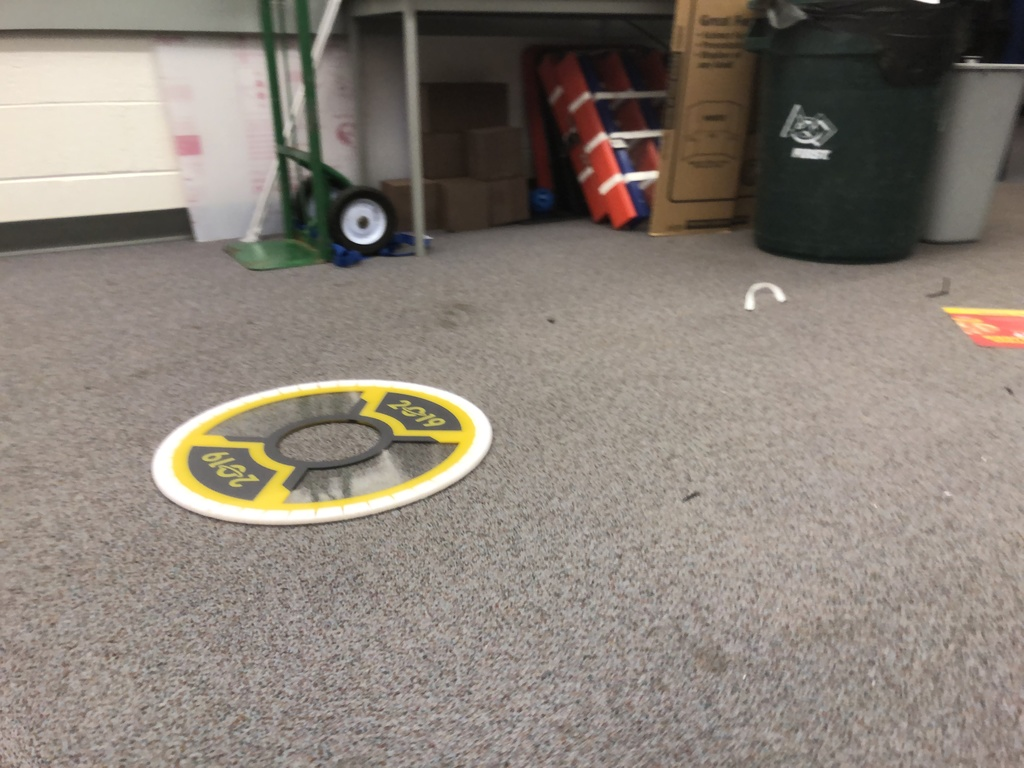hatch_panel: (138, 371, 491, 526)
